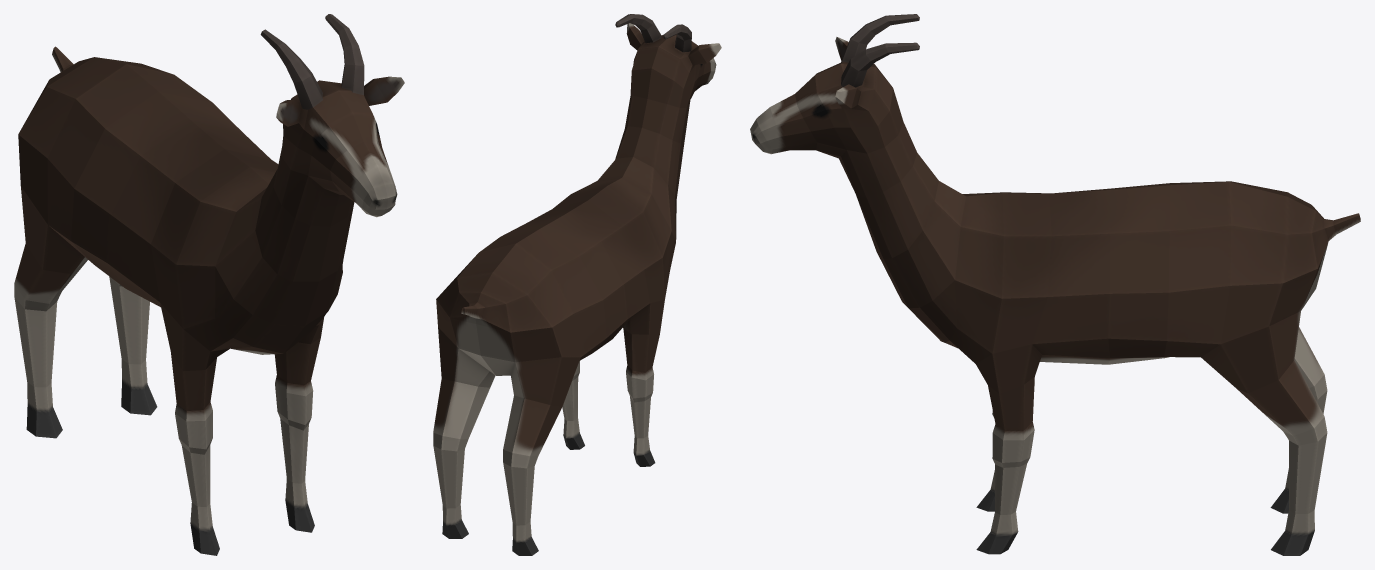
The model's file is goat.glb.
3 renders of one model, left to right at view 1: azimuth 30°, elevation 25°; view 2: azimuth 150°, elevation 25°; view 3: azimuth 270°, elevation 25°, orthographic. The views are drawn at different scales.
Visible parts, largest first — view 1: Goat_mesh; view 2: Goat_mesh; view 3: Goat_mesh.
Boxes of the visible parts, left/top/right/bottom form: Goat_mesh: left=14, top=14, right=404, bottom=555; Goat_mesh: left=433, top=14, right=721, bottom=555; Goat_mesh: left=750, top=14, right=1360, bottom=555.
Bounding box in the file's own units: 2.26 × 6.6 × 7.31.
1 material, 1 textured.
